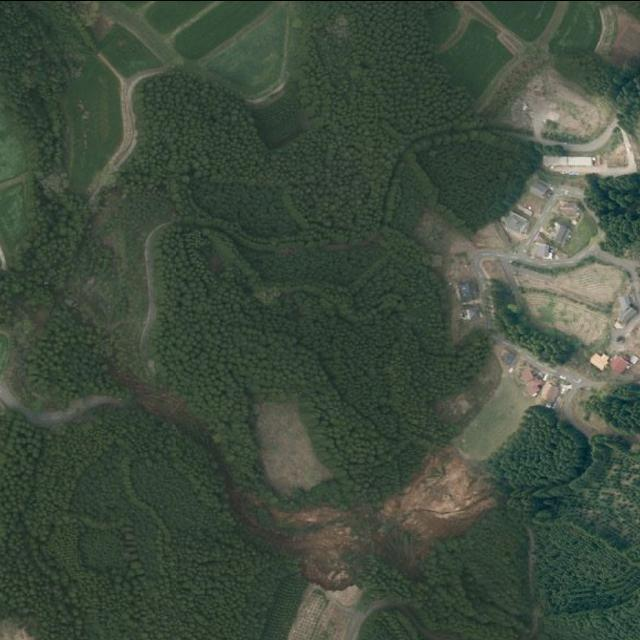landslide: (271, 448, 497, 591), (255, 401, 330, 495)
